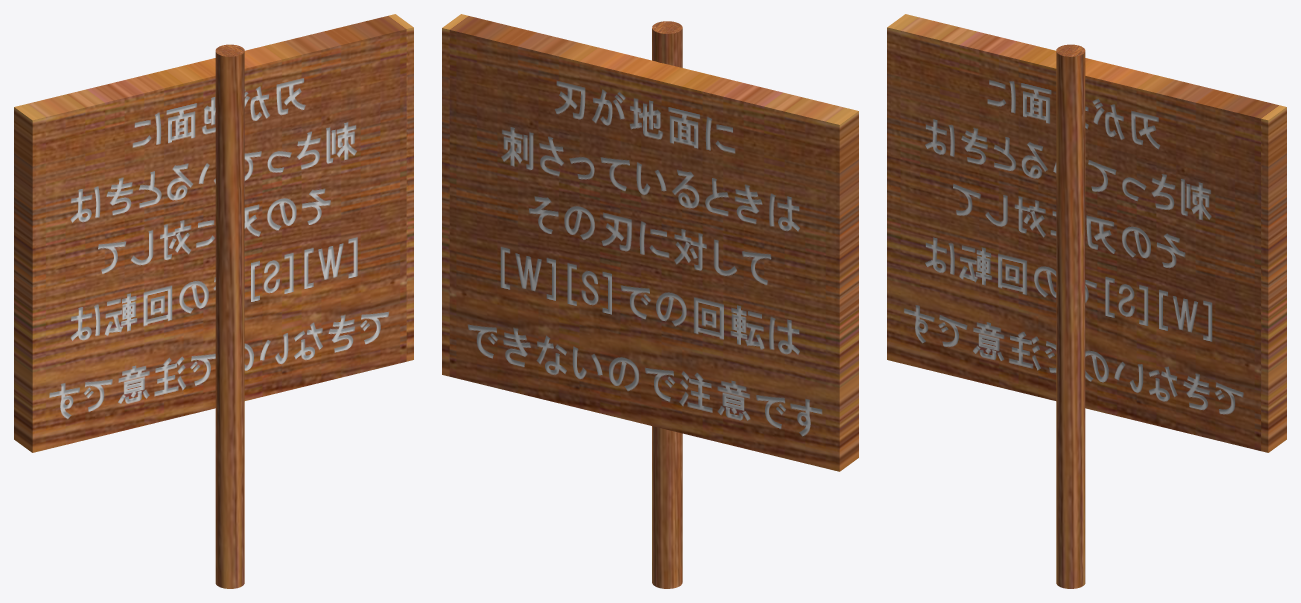
The model's file is Sign3.fbx.
3 views of the same model, side by side, from view 1: azimuth 30°, elevation 25°; view 2: azimuth 150°, elevation 25°; view 3: azimuth 330°, elevation 25° (orthographic). The views are drawn at different scales.
Parts seen in each view (by area): view 1: pCube1, pCylinder1; view 2: pCube1, pCylinder1; view 3: pCube1, pCylinder1.
Part boxes in pixels (x1,y1,x2,y2): pCube1: (14, 14, 413, 452); pCylinder1: (215, 44, 244, 588); pCube1: (442, 14, 858, 471); pCylinder1: (652, 21, 682, 588); pCube1: (887, 14, 1286, 452); pCylinder1: (1056, 44, 1085, 588).
Size of the model in its own units: 1.2 by 1.6 by 0.1781.
Materials: 2 (2 with a texture image).
